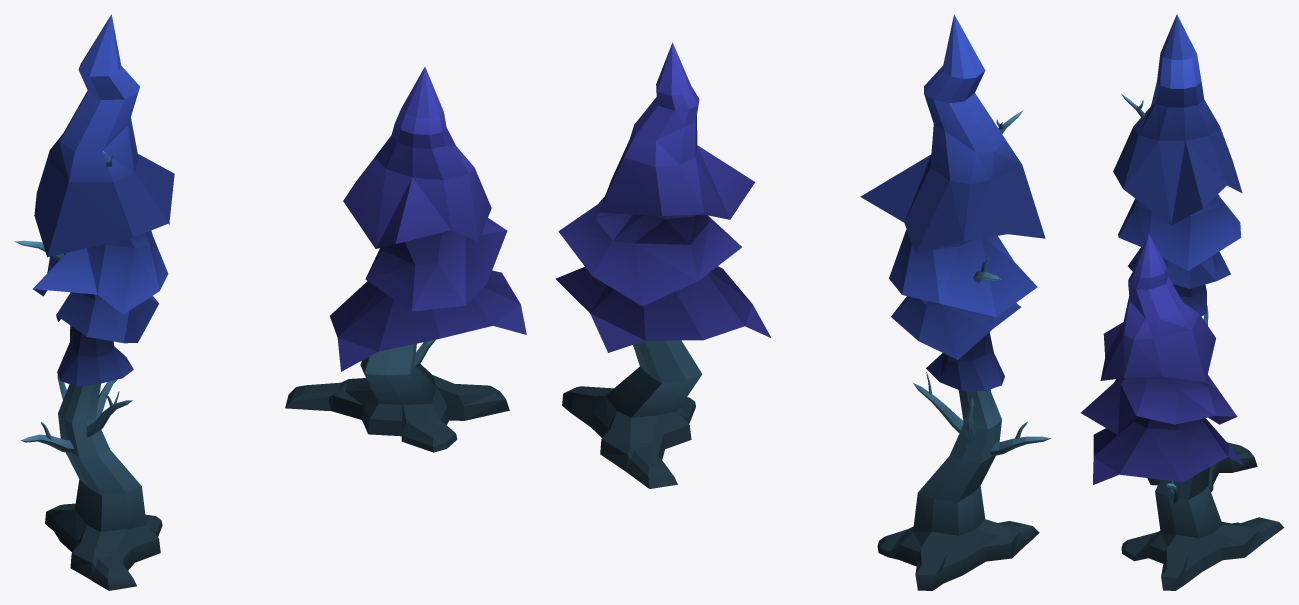
File: trees.fbx
The picture shows the model from 3 angles, left to right: view 1: azimuth 30°, elevation 25°; view 2: azimuth 150°, elevation 25°; view 3: azimuth 270°, elevation 25°; orthographic projection. The views are drawn at different scales.
Parts seen in each view (by area): view 1: TallTree, FatTree; view 2: TallTree, FatTree; view 3: FatTree, TallTree.
Part boxes in pixels (box(x1,y1,x2,y2)): TallTree: box(14, 14, 174, 590); FatTree: box(285, 67, 526, 452); TallTree: box(860, 14, 1050, 590); FatTree: box(555, 42, 771, 488); FatTree: box(1081, 234, 1284, 590); TallTree: box(1113, 14, 1257, 491).
Bounding box in the file's own units: 516 × 542 × 219.
